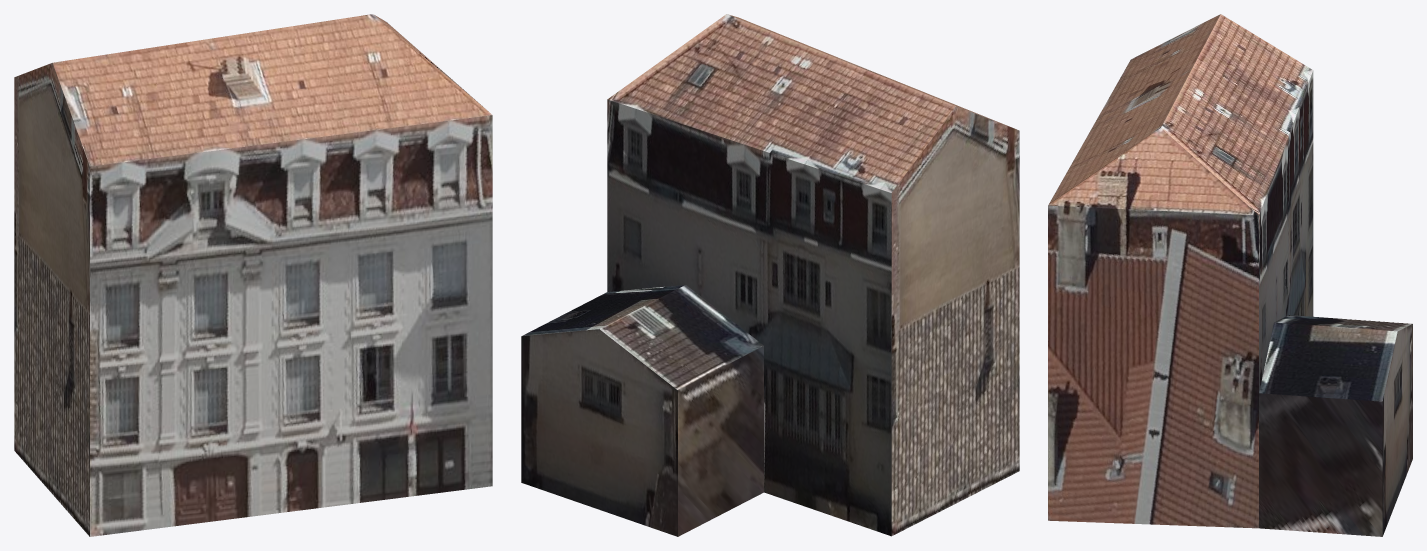
The picture shows the model from 3 angles, left to right: view 1: azimuth 30°, elevation 25°; view 2: azimuth 150°, elevation 25°; view 3: azimuth 270°, elevation 25°; orthographic projection. The views are drawn at different scales.
Parts seen in each view (by area): view 1: Z_UP; view 2: Z_UP; view 3: Z_UP.
Boxes of the visible parts, x1,y1,x2,y2 form: Z_UP: (14,14,492,536); Z_UP: (521,14,1019,536); Z_UP: (1048,14,1412,536).
Size of the model in its own units: 16.29 by 17.28 by 15.41.
2 materials, 1 textured.
